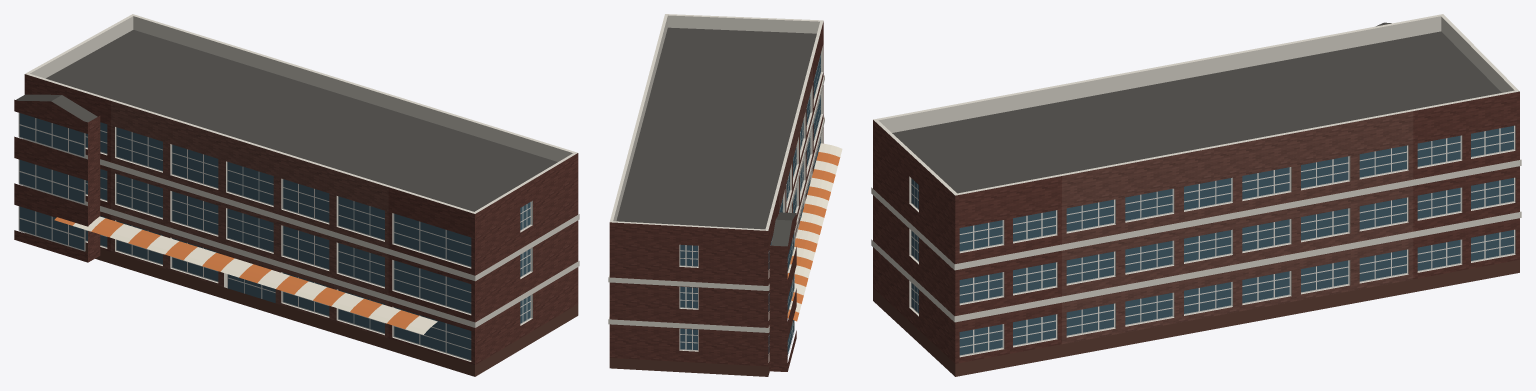
3 renders of one model, left to right at view 1: azimuth 30°, elevation 25°; view 2: azimuth 150°, elevation 25°; view 3: azimuth 270°, elevation 25°, orthographic. The views are drawn at different scales.
Parts seen in each view (by area): view 1: wing2__roof, wing2__glass, wing2__brick, wing2__trim-concrete, wing2__wall-plaster, wing2__frame, wing2__base-stone, wing2__awning-white, wing2__awning-orange; view 2: wing2__roof, wing2__brick, wing2__trim-concrete, wing2__glass, wing2__awning-white, wing2__awning-orange, wing2__base-stone, wing2__wall-plaster, wing2__frame; view 3: wing2__roof, wing2__wall-plaster, wing2__brick, wing2__glass, wing2__trim-concrete, wing2__frame, wing2__base-stone.
Part boxes in pixels (<box>): wing2__roof: <box>16,30,557,211</box>; wing2__glass: <box>19,113,530,359</box>; wing2__brick: <box>14,74,578,364</box>; wing2__trim-concrete: <box>23,14,579,361</box>; wing2__wall-plaster: <box>111,101,388,338</box>; wing2__frame: <box>18,113,531,360</box>; wing2__base-stone: <box>25,233,578,376</box>; wing2__awning-white: <box>73,216,437,334</box>; wing2__awning-orange: <box>54,217,419,328</box>; wing2__roof: <box>616,27,816,246</box>; wing2__brick: <box>609,21,823,371</box>; wing2__trim-concrete: <box>608,14,824,362</box>; wing2__glass: <box>680,54,820,354</box>; wing2__awning-white: <box>787,143,842,312</box>; wing2__awning-orange: <box>787,152,840,321</box>; wing2__base-stone: <box>609,358,769,376</box>; wing2__wall-plaster: <box>779,62,812,238</box>; wing2__frame: <box>679,51,821,357</box>; wing2__roof: <box>892,22,1501,193</box>; wing2__wall-plaster: <box>1062,111,1413,344</box>; wing2__brick: <box>873,91,1519,363</box>; wing2__glass: <box>911,126,1513,355</box>; wing2__trim-concrete: <box>871,14,1521,357</box>; wing2__frame: <box>911,125,1514,356</box>; wing2__base-stone: <box>873,260,1519,376</box>.
Bounding box in the file's own units: 28.36 × 12.55 × 40.79.
9 materials, 2 textured.
